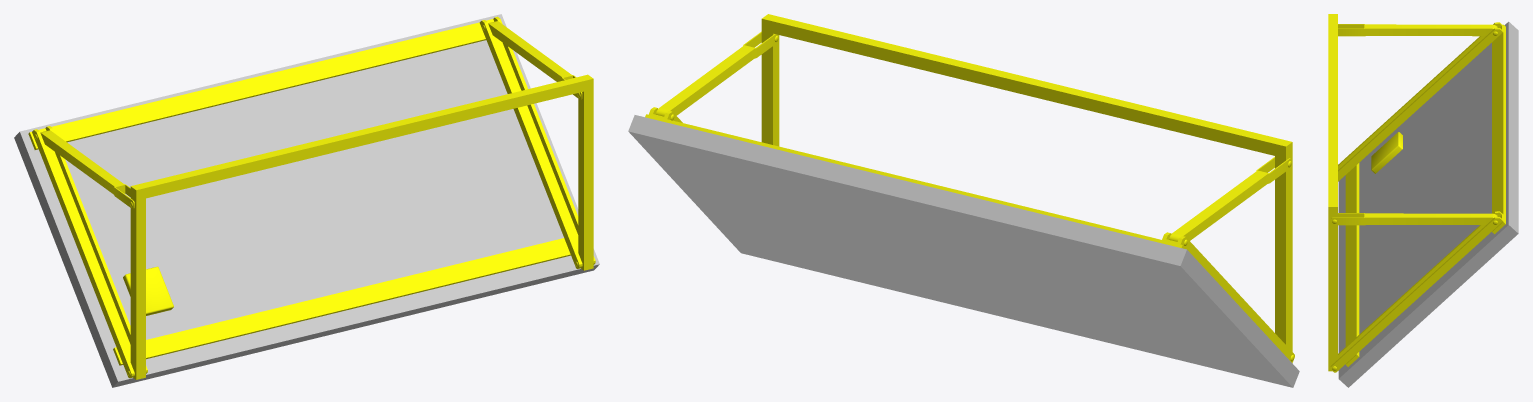
The model's file is sm_hana_pv_panel.glb.
The picture shows the model from 3 angles, left to right: view 1: azimuth 30°, elevation 25°; view 2: azimuth 150°, elevation 25°; view 3: azimuth 270°, elevation 25°; orthographic projection. The views are drawn at different scales.
Parts seen in each view (by area): view 1: sm_color_common, sm_hana_pv_panel; view 2: sm_color_common, sm_hana_pv_panel; view 3: sm_color_common, sm_hana_pv_panel.
Part boxes in pixels (x1,y1,x2,y2): sm_color_common: (14,14,599,387); sm_hana_pv_panel: (28,16,595,379); sm_color_common: (628,115,1299,387); sm_hana_pv_panel: (645,14,1294,362); sm_color_common: (1338,21,1518,387); sm_hana_pv_panel: (1328,14,1505,372).
Bounding box in the file's own units: 4.44 × 1.79 × 1.76.
Materials: 2 (1 with a texture image).
